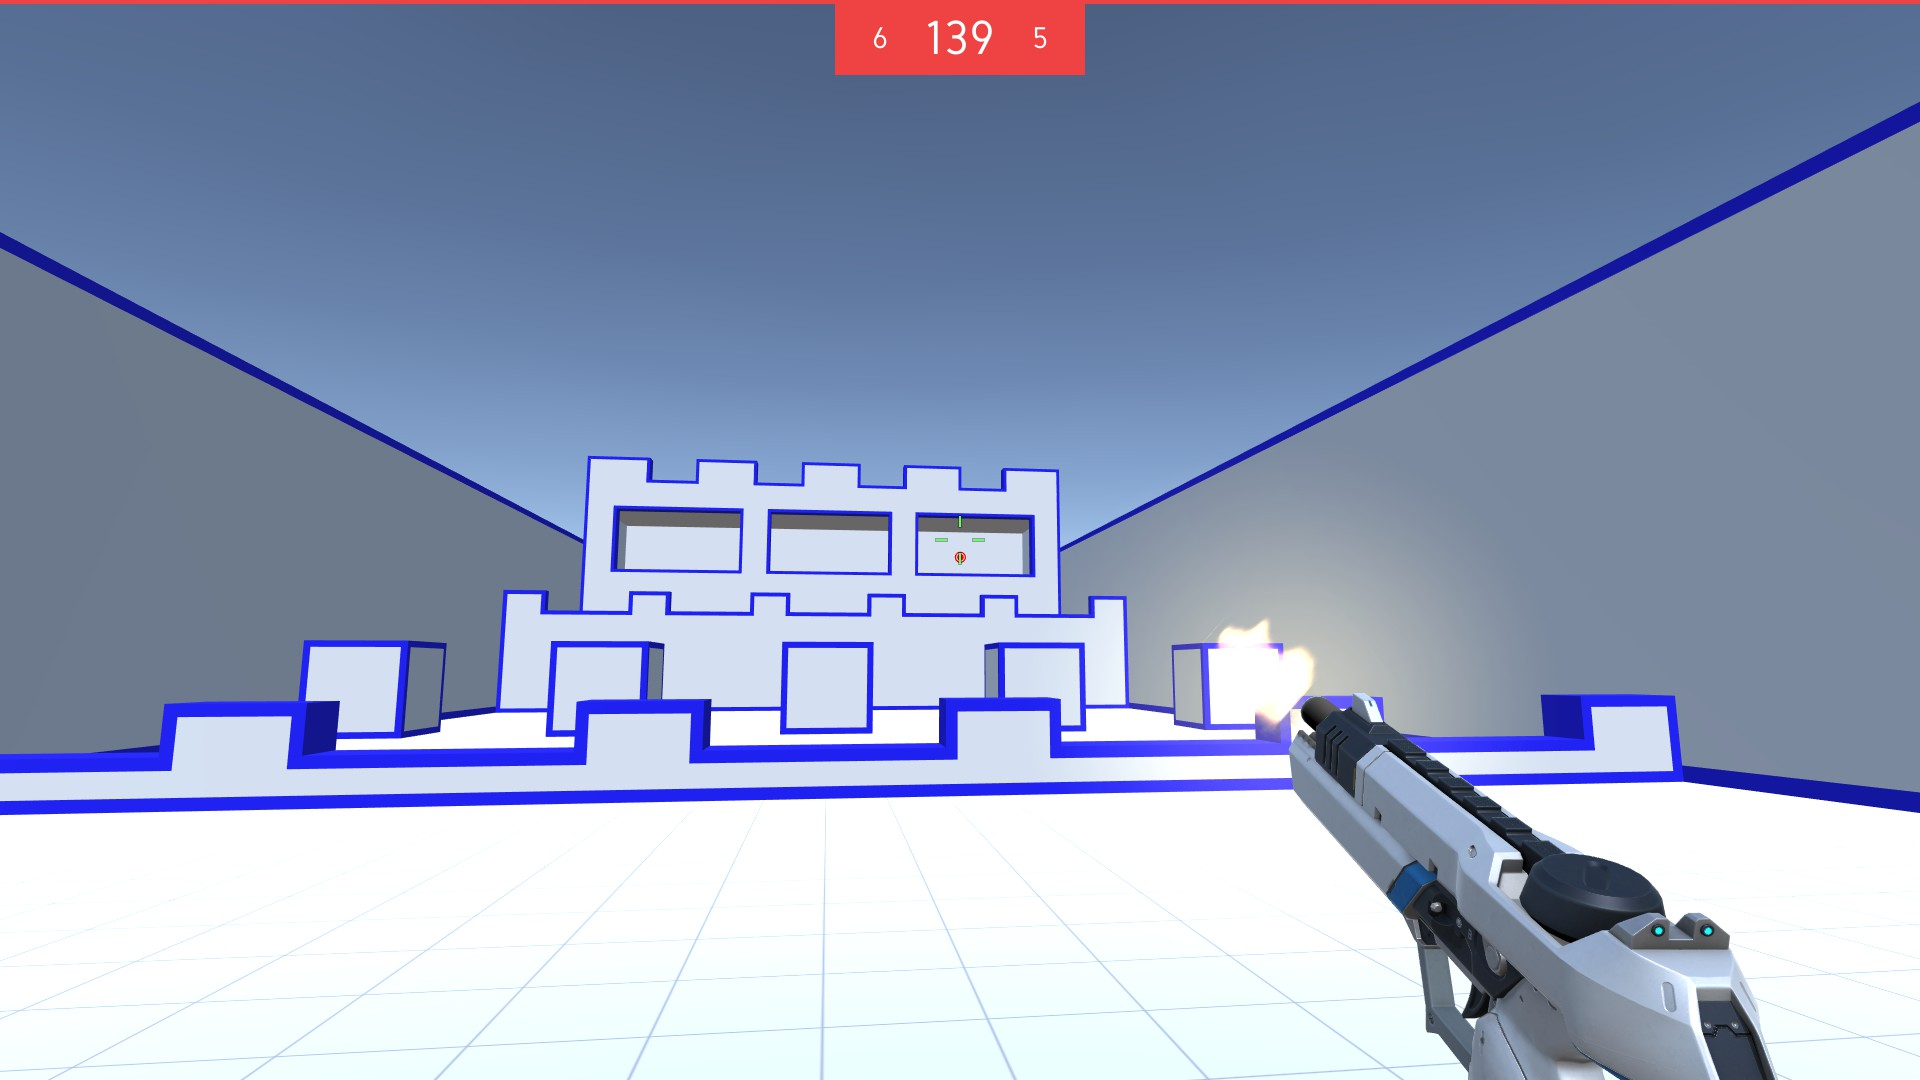target: (955, 550, 967, 564)
